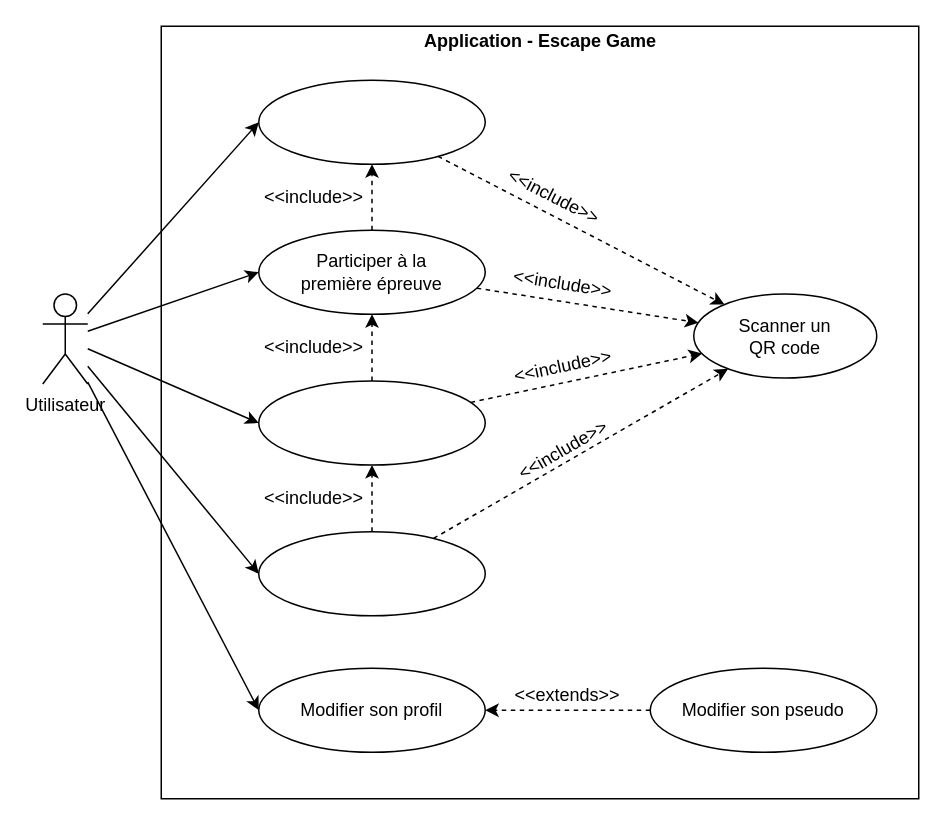
Image size: 945x825. Some labels were removed from this diagram. Here are the shapes that lost their labels. From the top down, the centre of each, then its label:
(371,121): Participer au jeu
(371,422): Participer à la deuxième épreuve
(371,573): Participer à la troisième épreuve
